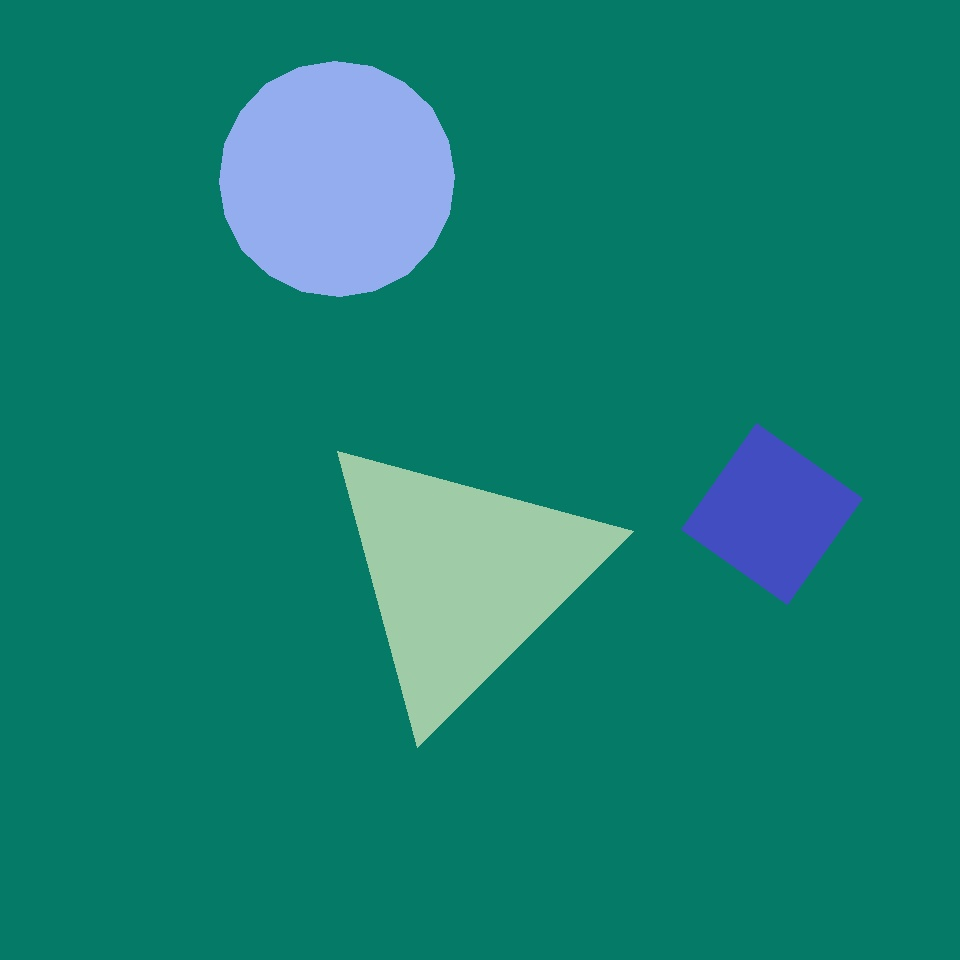circle: (315, 429, 611, 725)
square: (682, 424, 862, 604)
triangle: (220, 62, 454, 296)
